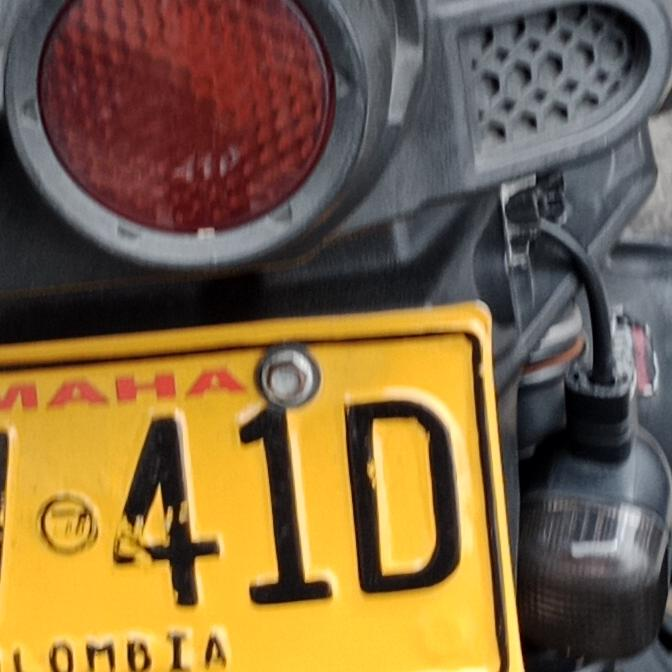plates: (0, 321, 542, 672)
